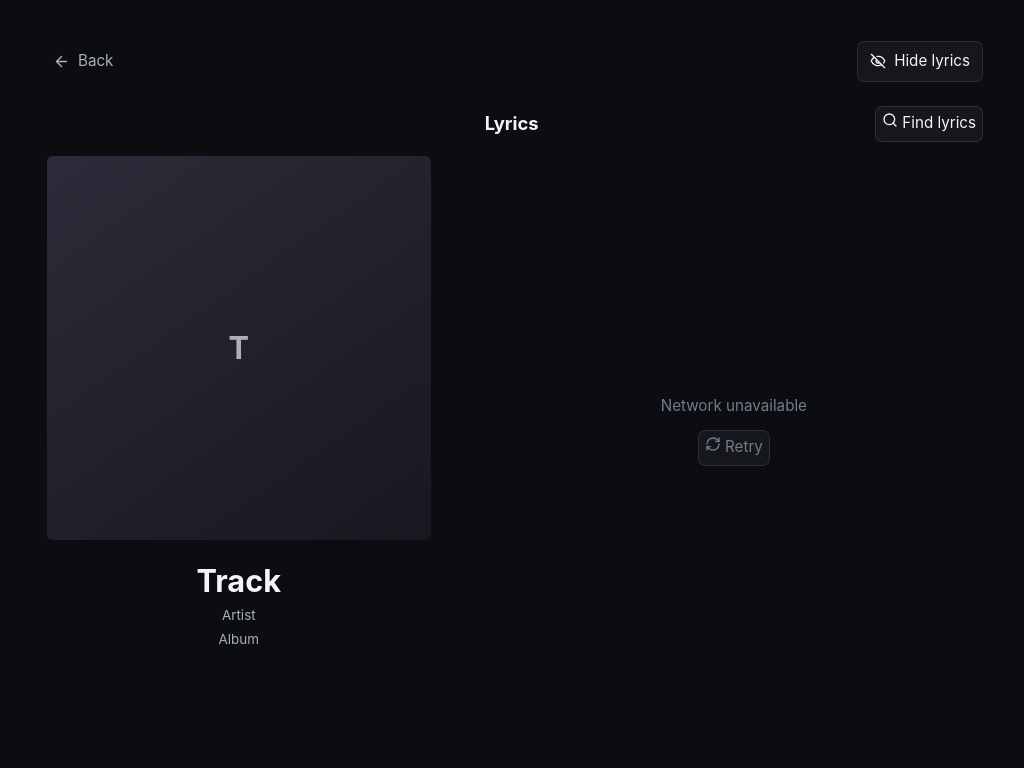
it: Now Playing lyrics › keeps provider failures quiet and retryable
The image size is (1024, 768).
Expected: the text "Network unavailable" is shown, x1=661 y1=395 x2=807 y2=418
Click the button "Retry" at coordinates (734, 448), box x1=698 y1=430 x2=770 y2=466
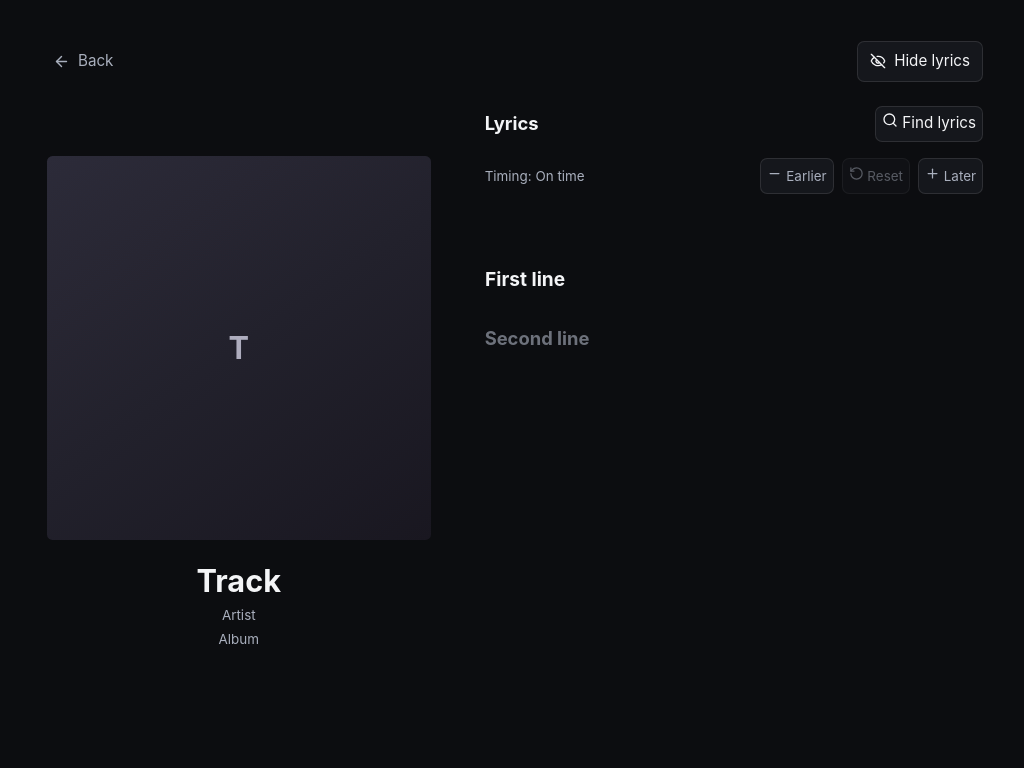
Result: the button "First line" is shown at x1=485 y1=257 x2=983 y2=302
